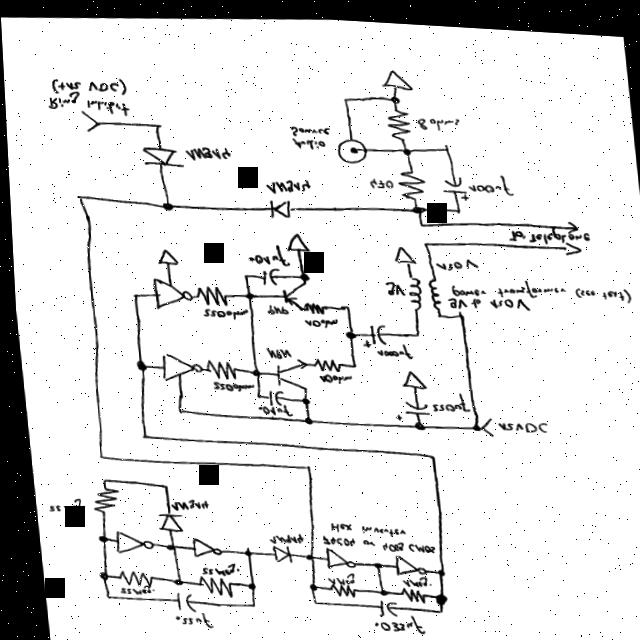capacitor: (388, 395, 426, 415), (437, 169, 467, 194), (356, 319, 385, 343), (167, 589, 189, 610), (370, 595, 393, 613), (256, 264, 278, 282), (262, 385, 280, 402)
diode: (138, 143, 181, 165), (149, 510, 178, 529), (264, 195, 290, 215), (263, 541, 288, 560)
ground: (379, 64, 413, 85), (281, 228, 308, 249), (394, 365, 423, 383), (388, 241, 414, 259), (152, 246, 177, 263)
junction: (158, 199, 173, 209), (427, 588, 440, 599), (131, 358, 144, 369), (91, 569, 103, 580), (340, 326, 353, 335), (158, 540, 171, 549), (409, 200, 423, 208), (387, 90, 399, 99), (398, 141, 410, 150), (365, 556, 377, 565), (408, 416, 420, 425), (236, 544, 246, 553), (150, 120, 161, 128), (297, 412, 308, 420), (246, 365, 257, 373), (298, 549, 309, 557), (170, 404, 181, 412), (295, 393, 305, 401), (301, 579, 311, 587), (239, 579, 249, 587), (429, 563, 439, 571), (439, 138, 449, 146), (465, 417, 475, 425), (295, 269, 306, 276), (91, 534, 102, 541), (166, 576, 177, 583), (372, 584, 383, 591), (431, 307, 442, 313), (241, 289, 250, 296), (72, 193, 81, 200), (339, 92, 349, 98), (418, 235, 427, 241), (91, 452, 100, 458), (94, 476, 103, 482), (155, 481, 164, 487), (339, 300, 348, 306), (414, 217, 423, 223), (452, 307, 461, 313), (242, 599, 250, 605), (409, 326, 417, 332), (249, 390, 258, 395), (299, 460, 306, 466), (451, 202, 459, 207), (135, 432, 143, 437), (238, 270, 246, 275), (128, 291, 136, 296), (346, 359, 353, 364), (430, 603, 437, 608), (97, 593, 104, 598), (304, 596, 311, 601), (423, 449, 430, 454)
resistor: (394, 164, 425, 195), (383, 102, 411, 136), (191, 572, 230, 595), (84, 485, 115, 511), (200, 356, 233, 377), (191, 283, 224, 303), (109, 568, 147, 584), (392, 582, 420, 598), (321, 579, 352, 593), (308, 354, 338, 367), (300, 297, 322, 311)
terminal: (332, 134, 368, 159), (78, 108, 98, 130), (559, 234, 580, 248), (475, 411, 490, 430), (561, 212, 577, 226)
text: (445, 272, 628, 296), (314, 530, 430, 548), (45, 90, 128, 115), (504, 220, 588, 238), (49, 76, 126, 93), (443, 290, 527, 305), (323, 517, 400, 532), (243, 240, 288, 263), (365, 610, 419, 629), (464, 168, 512, 189), (425, 386, 466, 406), (262, 174, 309, 190), (414, 110, 461, 126), (182, 143, 230, 158), (371, 337, 409, 354), (191, 560, 233, 575), (165, 610, 206, 625), (492, 414, 543, 426), (196, 304, 246, 316), (39, 497, 79, 512), (431, 252, 477, 265), (163, 496, 204, 509), (205, 378, 251, 389), (252, 400, 289, 413), (289, 133, 324, 146), (288, 121, 329, 132), (261, 530, 299, 541), (110, 583, 148, 594), (260, 343, 289, 356), (320, 568, 349, 581), (299, 313, 334, 323), (313, 369, 348, 379), (394, 571, 422, 583), (380, 276, 402, 291), (365, 174, 392, 185), (262, 301, 286, 311)
transformer: (402, 269, 440, 305)
transistor: (269, 354, 307, 386), (276, 278, 304, 308)
